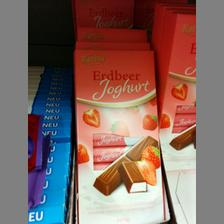Schokolade: (72, 46, 168, 222), (154, 11, 194, 172)
